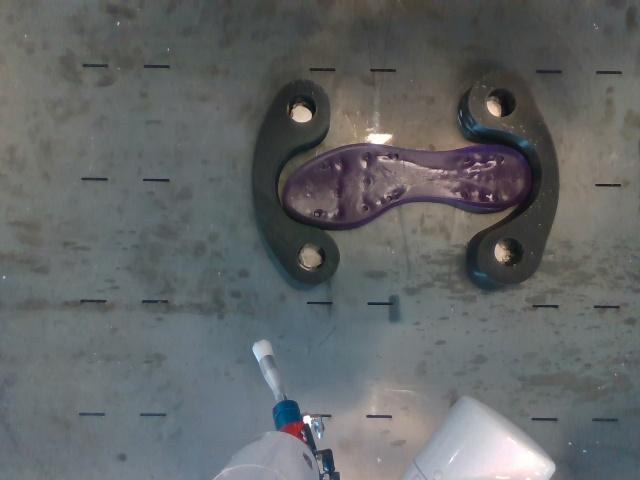shoes: (283, 144, 532, 230)
